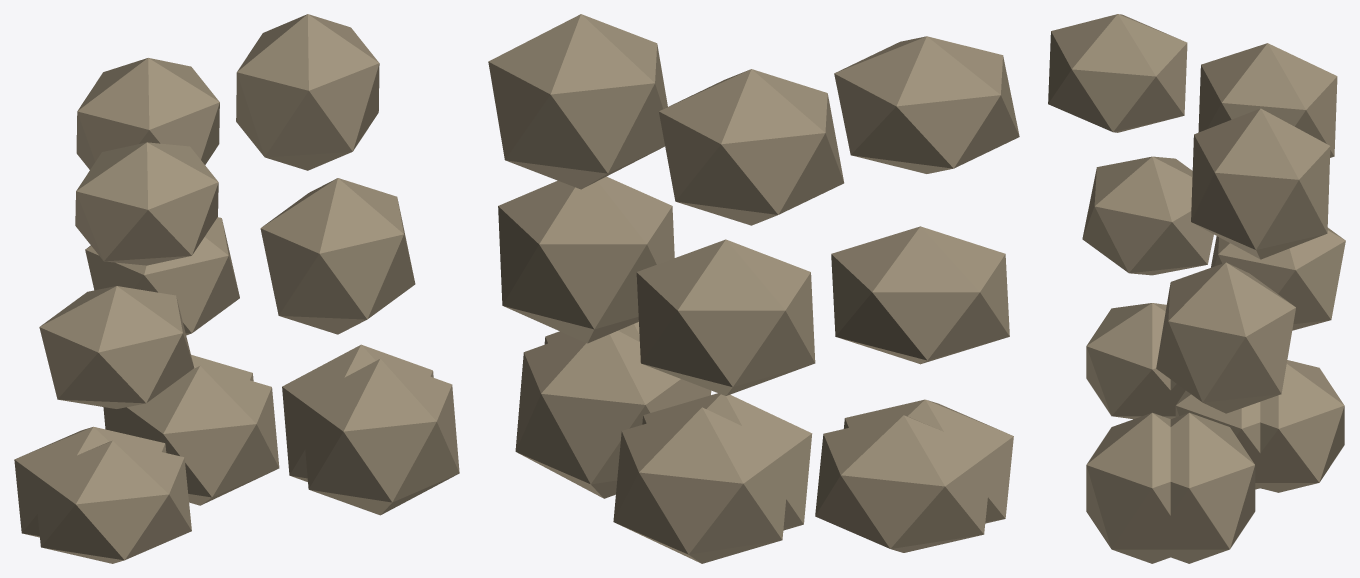
File: Stone_Tuff.fbx
3 renders of one model, left to right at view 1: azimuth 30°, elevation 25°; view 2: azimuth 150°, elevation 25°; view 3: azimuth 270°, elevation 25°, orthographic. The views are drawn at different scales.
Parts seen in each view (by area): view 1: Stone_Tuff__Stack, Stone_Tuff; view 2: Stone_Tuff__Stack, Stone_Tuff; view 3: Stone_Tuff__Stack, Stone_Tuff.
Part boxes in pixels (x1,y1,x2,y2): Stone_Tuff__Stack: [14, 14, 433, 537]; Stone_Tuff: [33, 358, 459, 563]; Stone_Tuff__Stack: [488, 14, 1019, 563]; Stone_Tuff: [544, 322, 1013, 530]; Stone_Tuff__Stack: [1048, 14, 1345, 563]; Stone_Tuff: [1086, 303, 1282, 563].
Bounding box in the file's own units: 0.1537 × 0.1658 × 0.0999.
